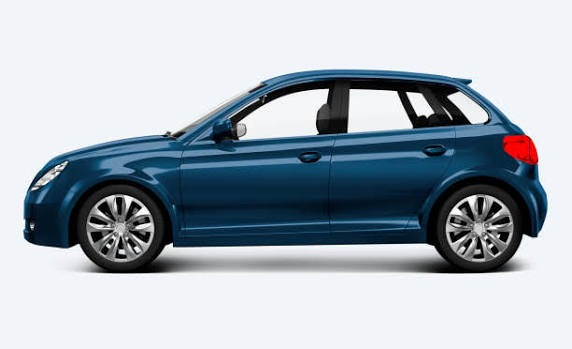car: (19, 73, 542, 280)
